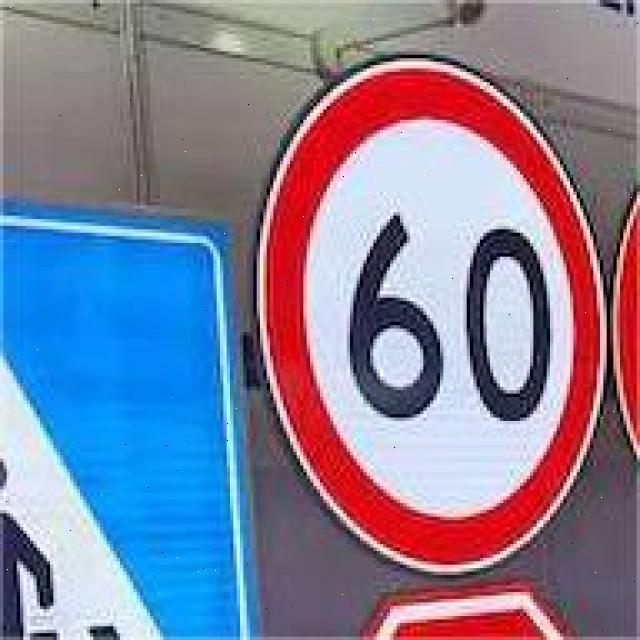speed limit 60: (252, 54, 610, 578)
